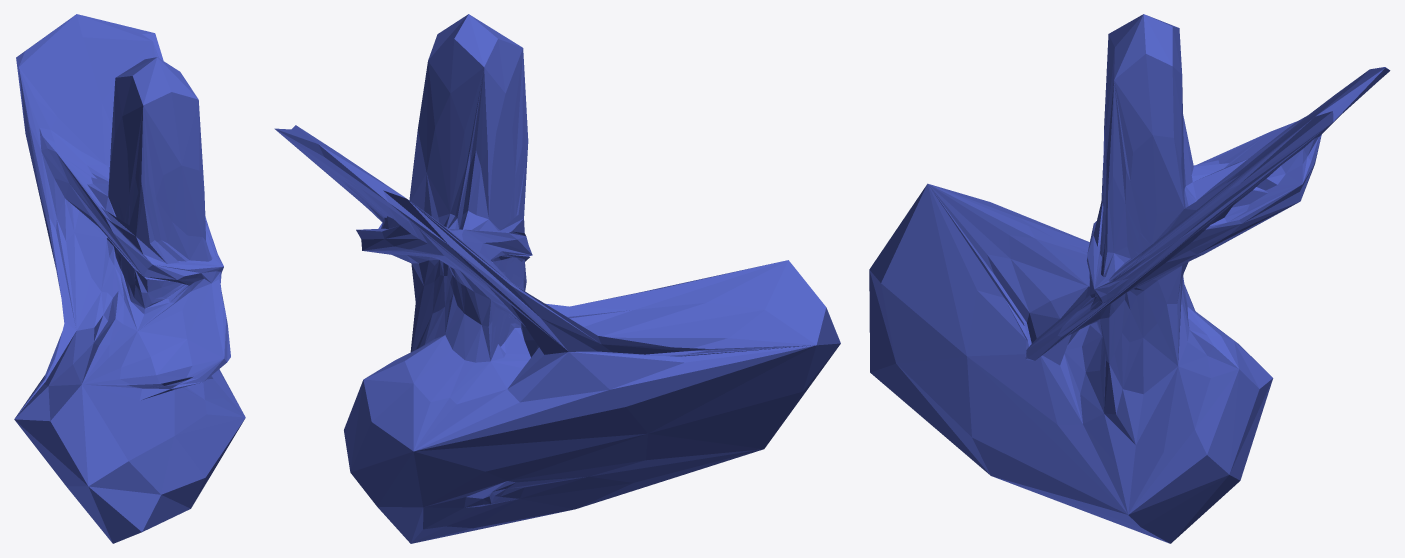
The picture shows the model from 3 angles, left to right: view 1: azimuth 30°, elevation 25°; view 2: azimuth 150°, elevation 25°; view 3: azimuth 270°, elevation 25°; orthographic projection. The views are drawn at different scales.
Visible parts, largest first — view 1: 140_Cube.581; view 2: 140_Cube.581; view 3: 140_Cube.581.
Boxes of the visible parts, x1,y1,x2,y2 form: 140_Cube.581: [14, 14, 245, 543]; 140_Cube.581: [274, 14, 840, 543]; 140_Cube.581: [869, 14, 1390, 543].
Size of the model in its own units: 9.81 by 13.57 by 12.58.
